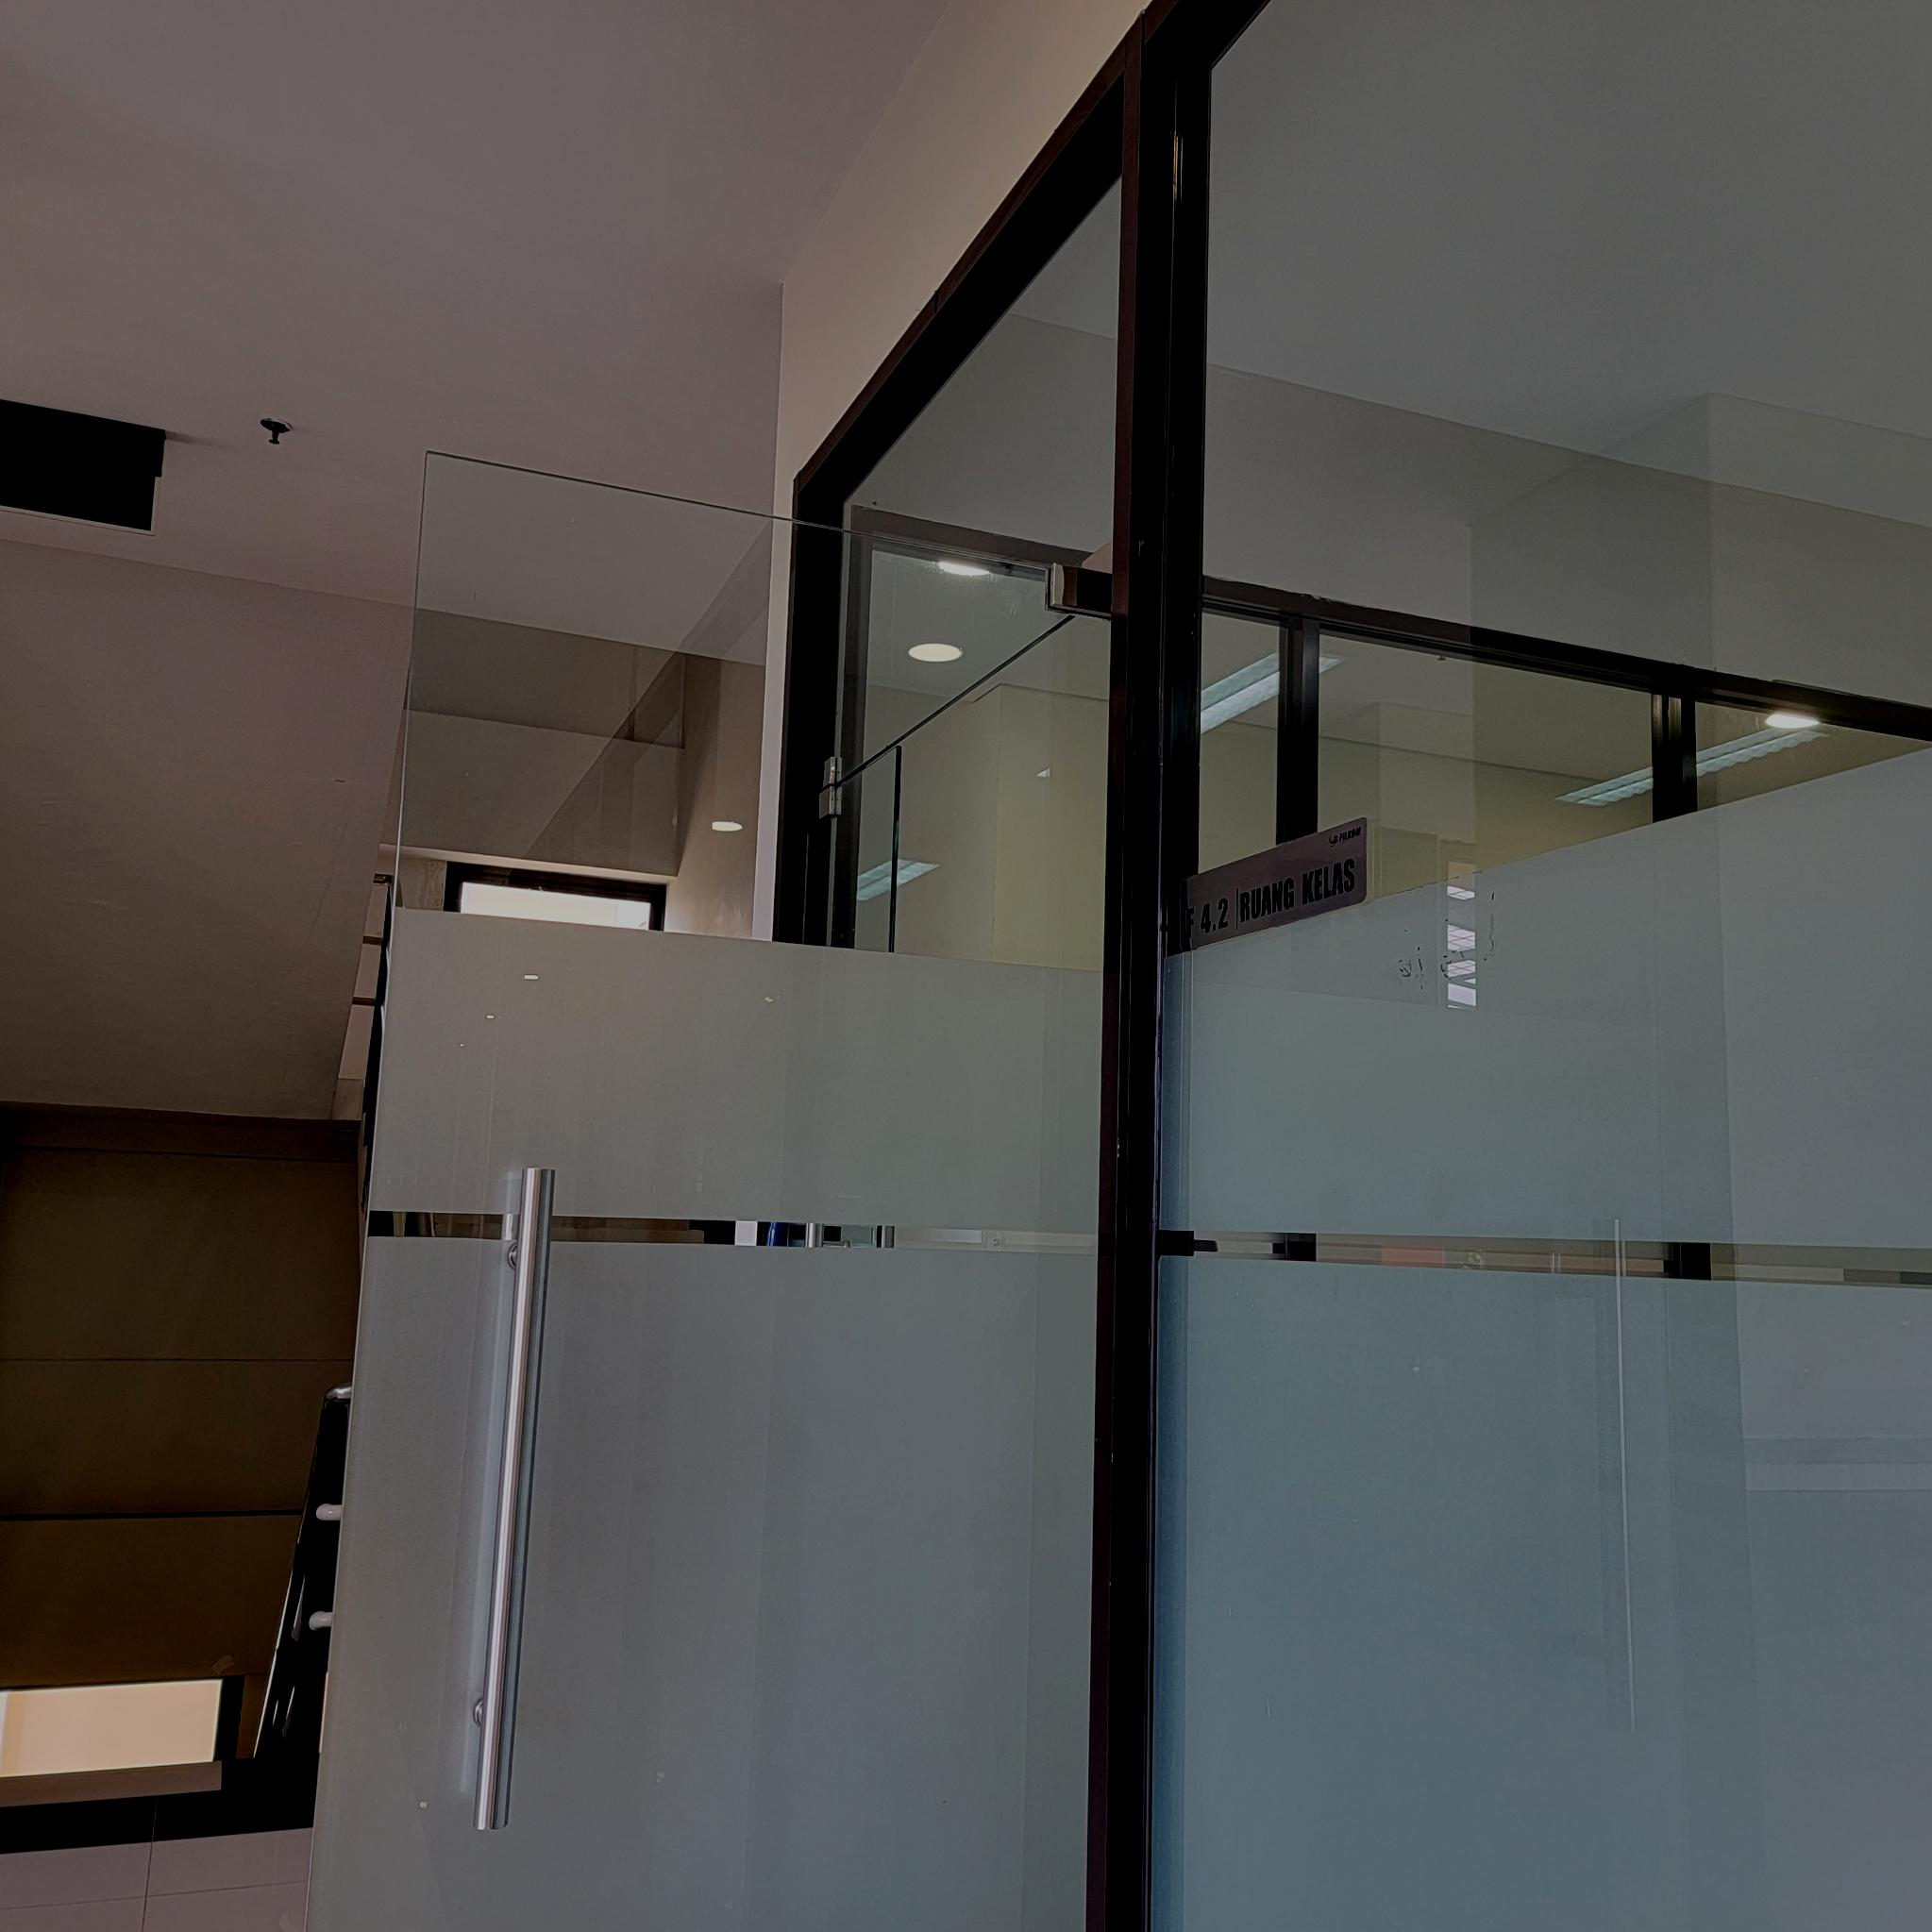plate: (1178, 817, 1369, 954)
